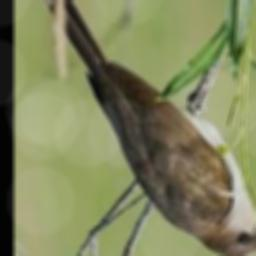Cuckoo: (25, 0, 256, 256)
